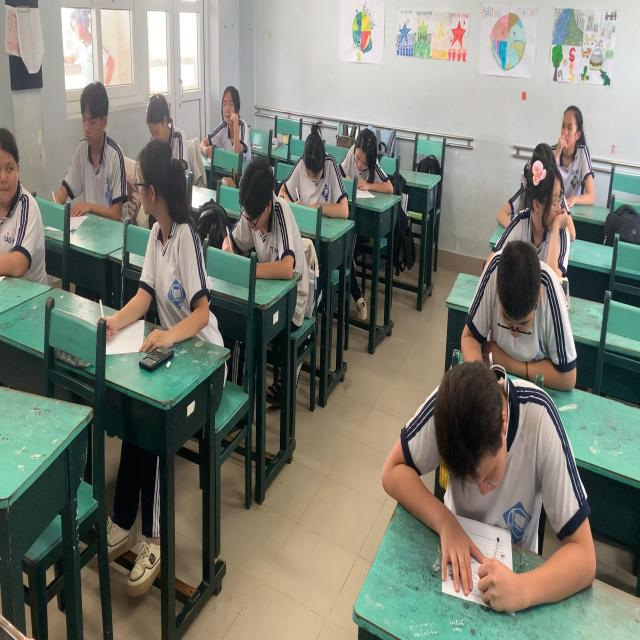cheating: (125, 149, 214, 361), (514, 164, 572, 250), (0, 122, 32, 222)
not_cheating: (403, 364, 549, 588), (472, 247, 551, 381), (220, 146, 288, 292), (282, 129, 346, 243), (73, 88, 123, 177), (343, 123, 384, 205), (547, 95, 594, 163), (135, 87, 179, 150), (222, 87, 246, 135)
